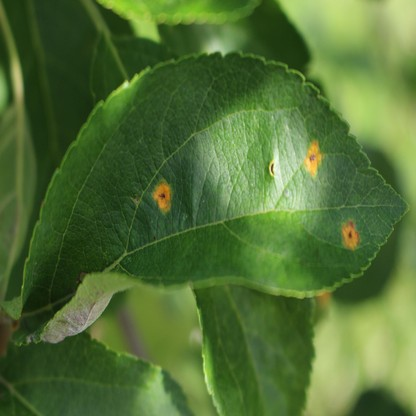powdery_mildew: (27, 299, 110, 346)
rust: (306, 139, 321, 177), (340, 219, 359, 249), (154, 179, 170, 213)
